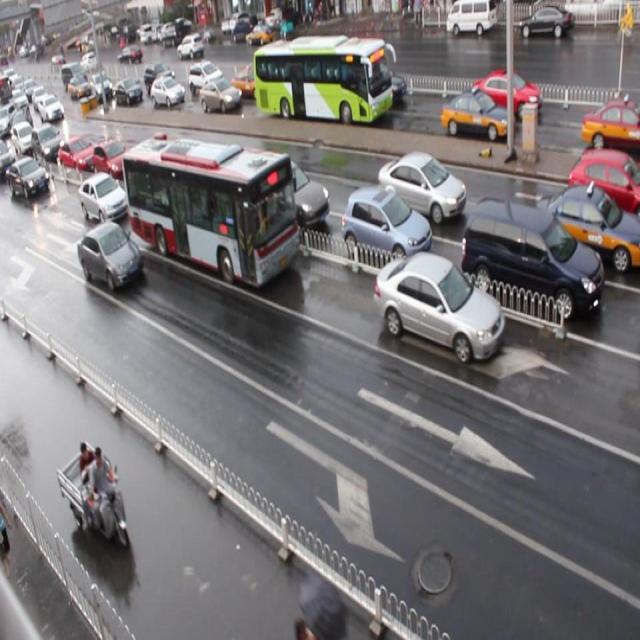car: (374, 253, 503, 363), (534, 184, 640, 275), (340, 188, 430, 272), (377, 151, 465, 227), (247, 159, 328, 233), (566, 150, 640, 226), (77, 222, 142, 291), (441, 89, 515, 146), (176, 150, 241, 207), (474, 70, 544, 121), (342, 64, 408, 110), (79, 172, 130, 226), (582, 100, 632, 150), (131, 145, 178, 194), (1, 157, 49, 200), (200, 78, 242, 114), (88, 136, 126, 175), (59, 134, 95, 174), (188, 61, 224, 98), (230, 70, 269, 102), (150, 77, 185, 108), (30, 127, 59, 162), (144, 62, 175, 94), (115, 79, 144, 107), (92, 73, 113, 102)
truck: (461, 195, 603, 325)
van: (122, 134, 300, 287), (254, 34, 394, 125)
